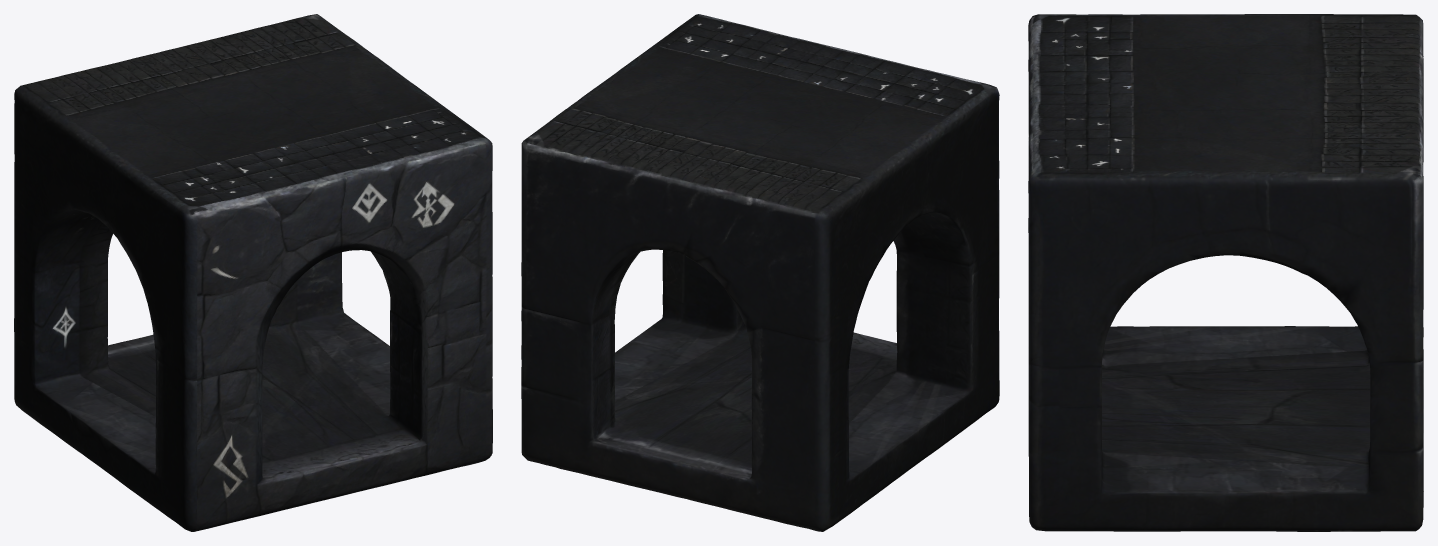
The model's file is A_rectangular_3D_bloc_1212155251_texture.fbx.
3 renders of one model, left to right at view 1: azimuth 30°, elevation 25°; view 2: azimuth 150°, elevation 25°; view 3: azimuth 270°, elevation 25°, orthographic. The views are drawn at different scales.
Visible parts, largest first — view 1: Mesh1_Mesh1.012; view 2: Mesh1_Mesh1.012; view 3: Mesh1_Mesh1.012.
Boxes of the visible parts, <box> form: Mesh1_Mesh1.012: <box>14,14,492,531</box>; Mesh1_Mesh1.012: <box>521,14,999,531</box>; Mesh1_Mesh1.012: <box>1028,14,1423,531</box>.
Bounding box in the file's own units: 201 × 200 × 201.
1 material, 1 textured.
